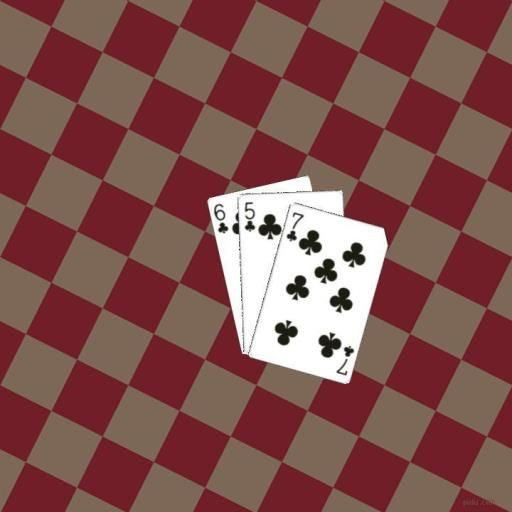5C: (241, 199, 256, 233)
6C: (211, 200, 230, 235)
7C: (333, 342, 356, 377), (283, 209, 305, 243)
